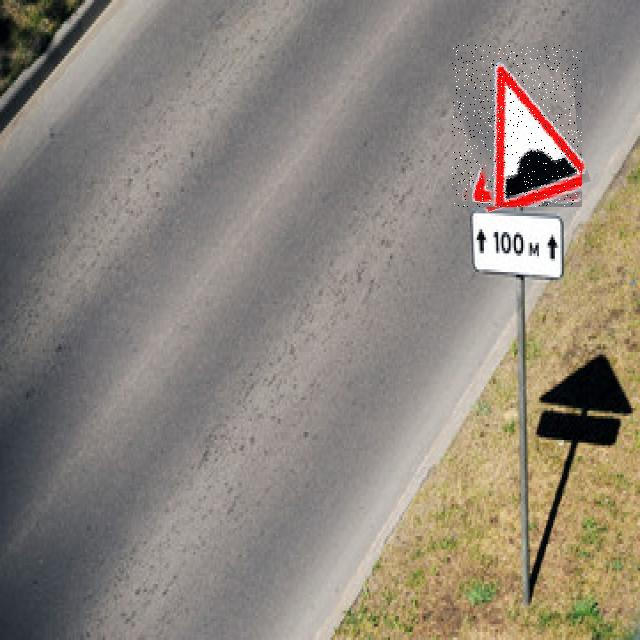hump: (452, 45, 582, 207)
